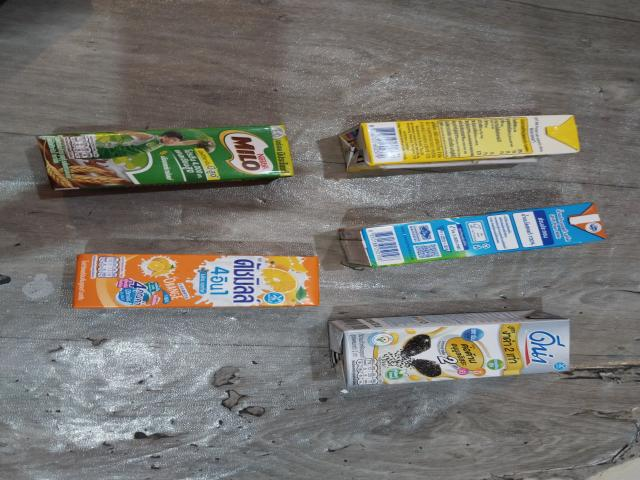drink_box: (338, 197, 626, 280), (67, 250, 326, 319), (321, 311, 574, 380), (28, 124, 292, 190), (333, 113, 582, 171)
